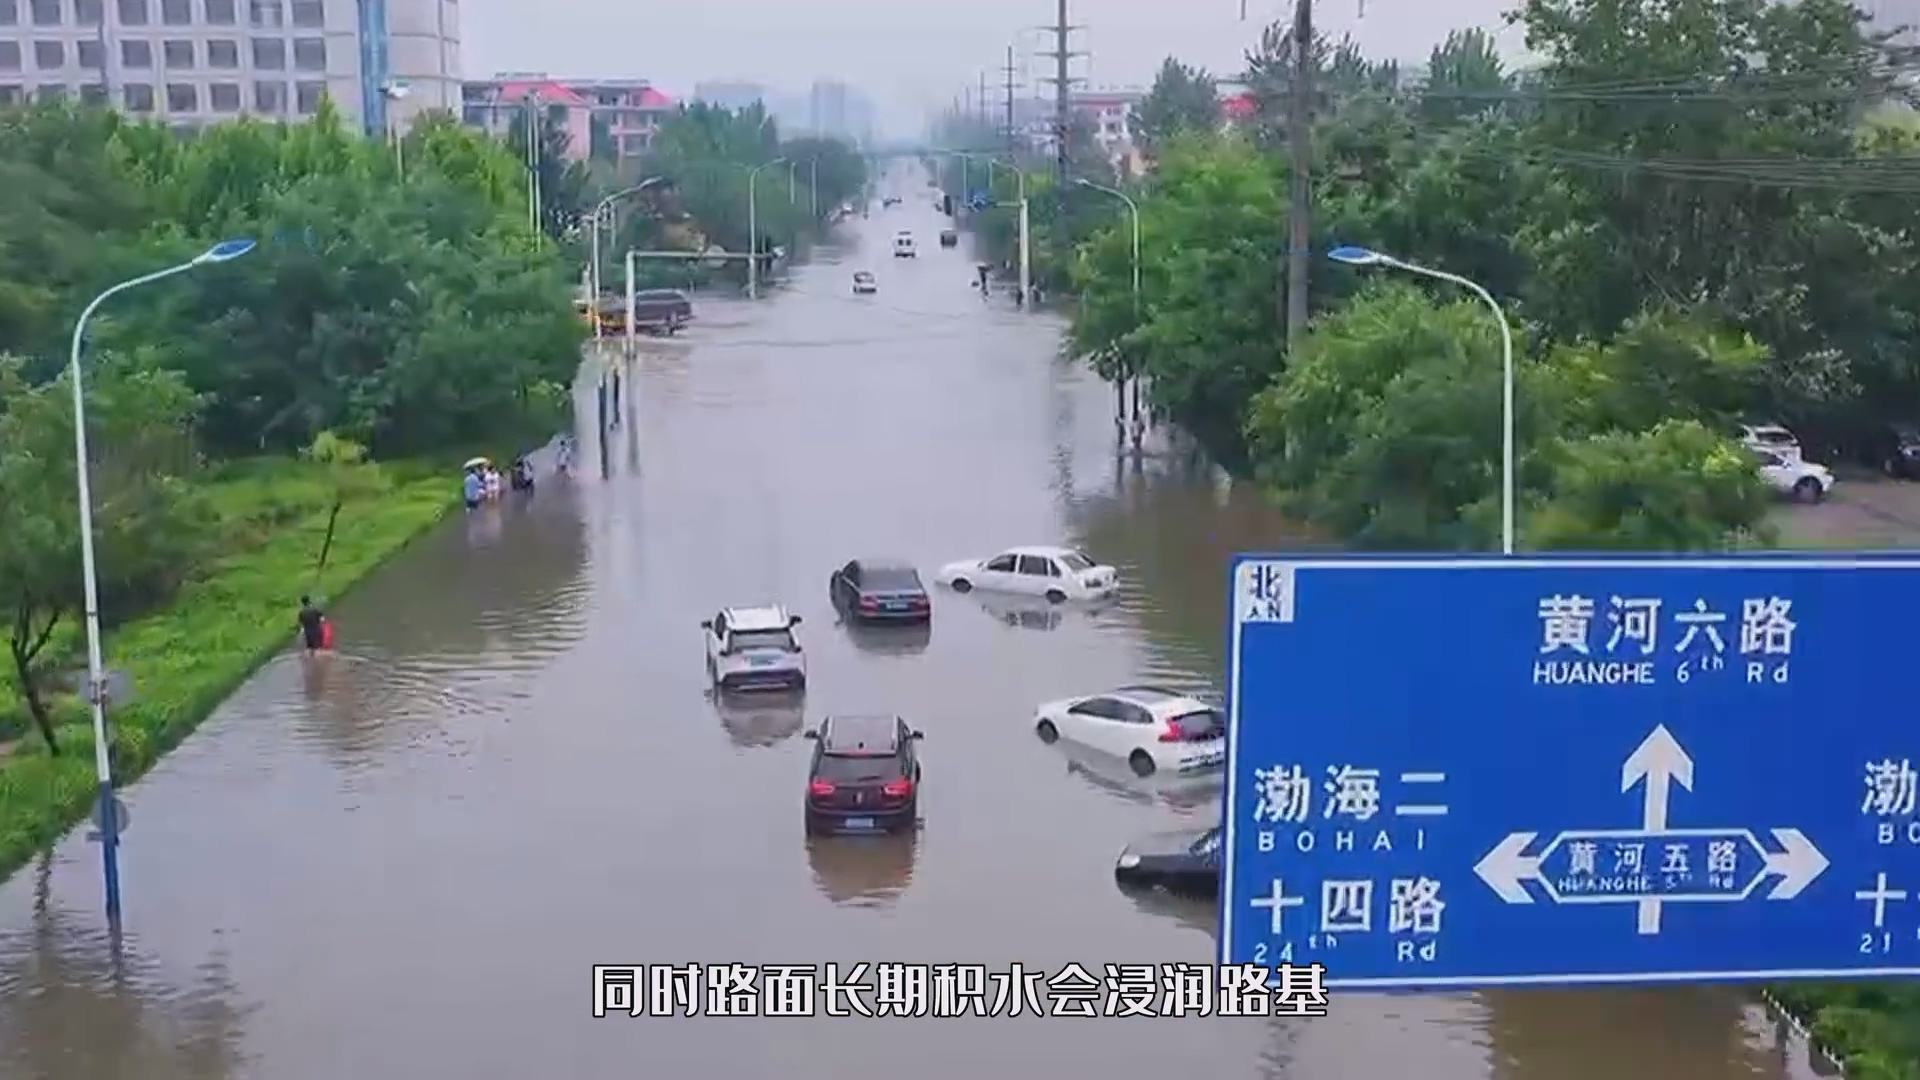puddle: (174, 363, 1233, 1080)
